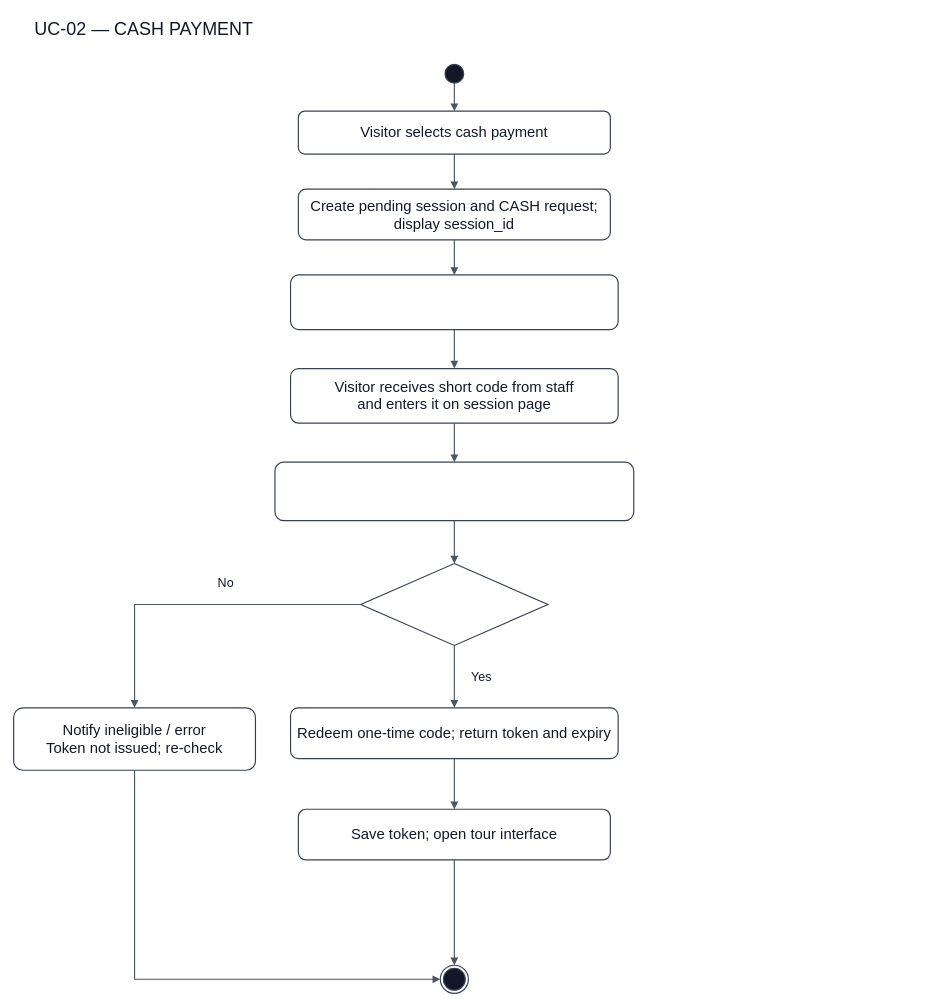
The diagram is 928 pixels wide and 1007 high, and some of its shapes have lost their labels. Each missing label, with the centre of its shape:
Eligible to claim token?: point 454,604
System checks code, TTL, attempt limit, and matching valid paid session: point 454,491
Visitor provides session_id, pays cash; staff confirms via UC-11: point 454,302
